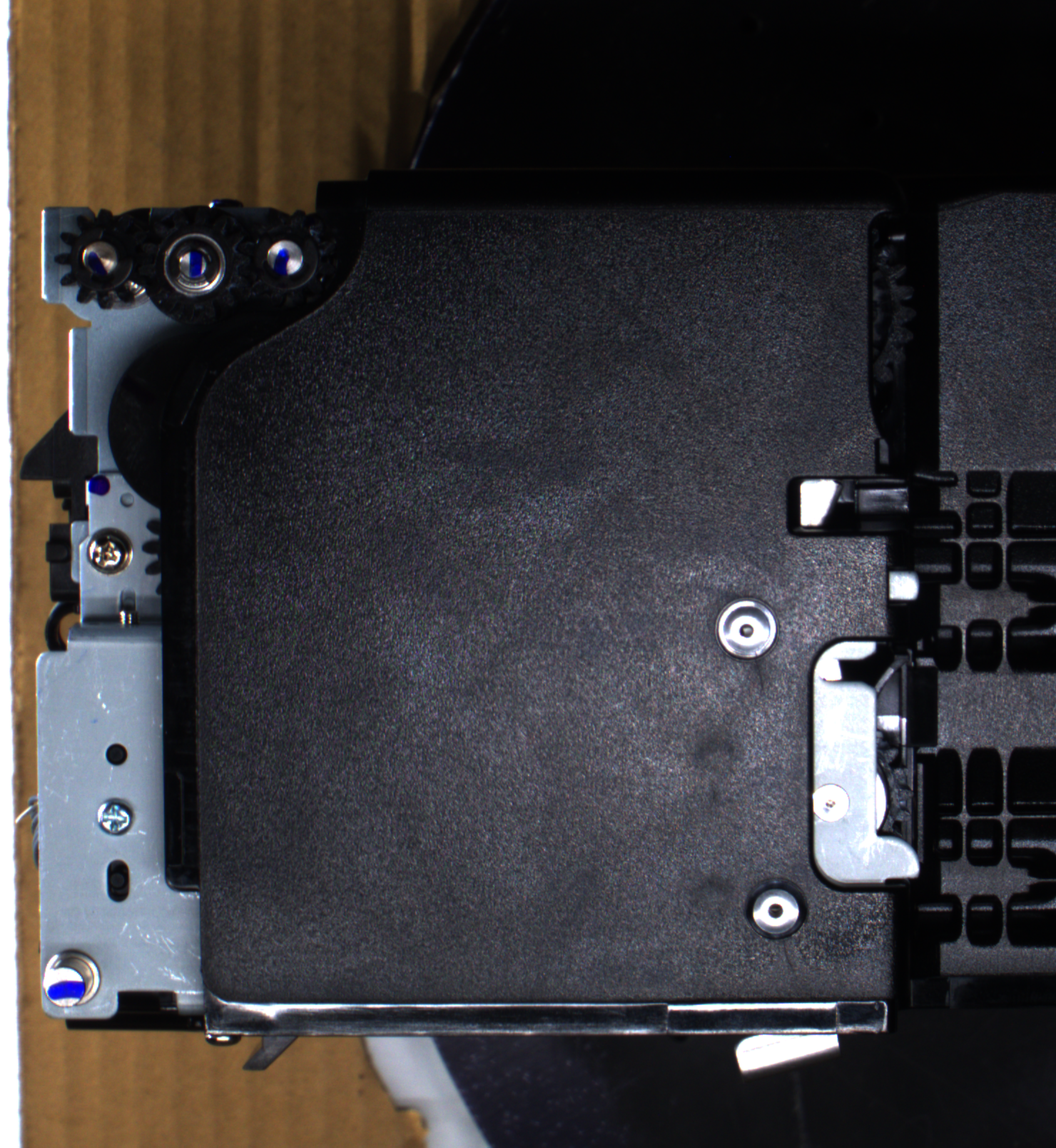centre_pin_presence: (726, 1016, 847, 1081)
centre_plate_presence: (800, 631, 931, 896)
centre_screw_presence: (710, 591, 784, 668), (739, 872, 811, 944)
gear1_presence: (52, 207, 153, 312)
gear2_presence: (141, 204, 251, 326)
gear3_presence: (235, 206, 334, 311)
side_screw_presence: (82, 524, 136, 577), (92, 796, 137, 837)
slanting_pin_presence: (38, 945, 109, 1016)
